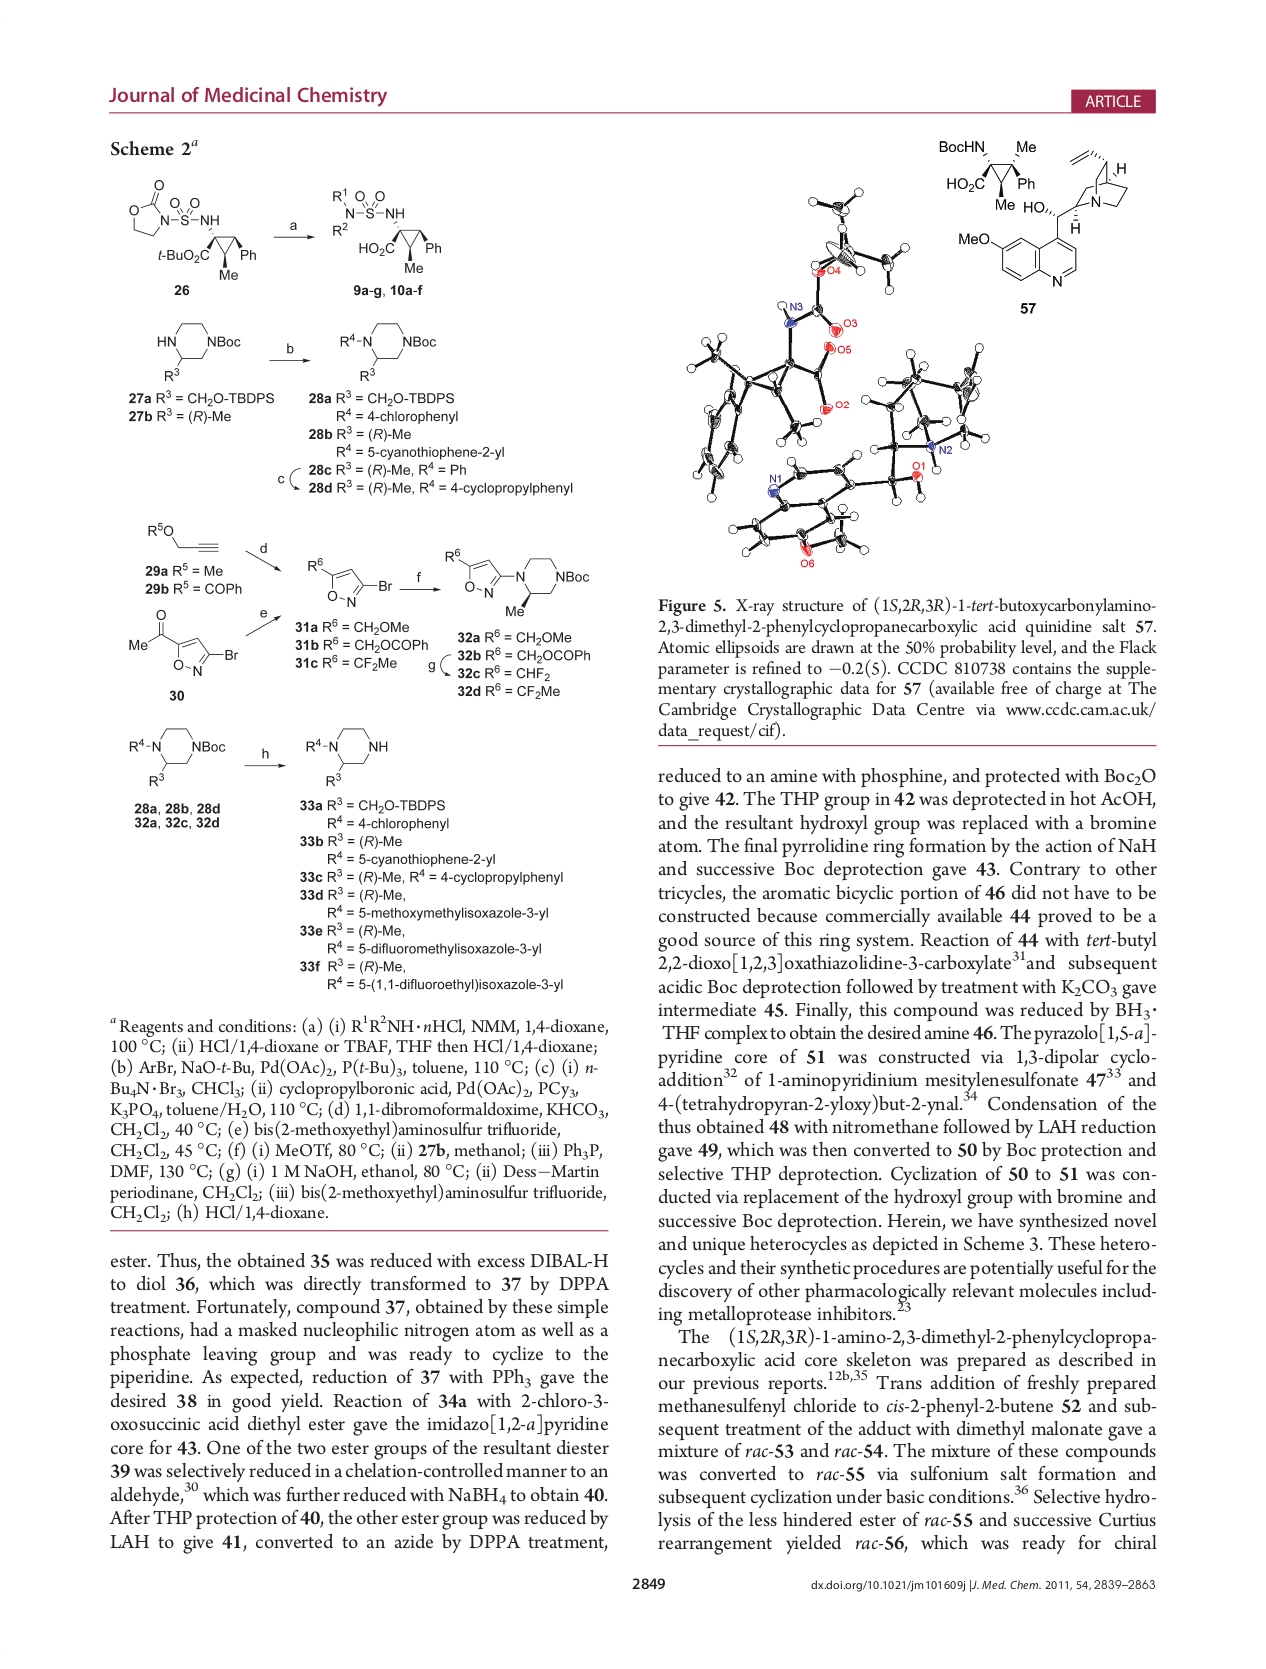exist_molecular: (938, 133, 1130, 290), (125, 174, 261, 283), (324, 182, 443, 279), (443, 545, 592, 618), (125, 605, 241, 678), (124, 723, 226, 790), (336, 319, 438, 386), (301, 723, 390, 789), (156, 318, 242, 384), (302, 555, 394, 610), (142, 515, 223, 559)
